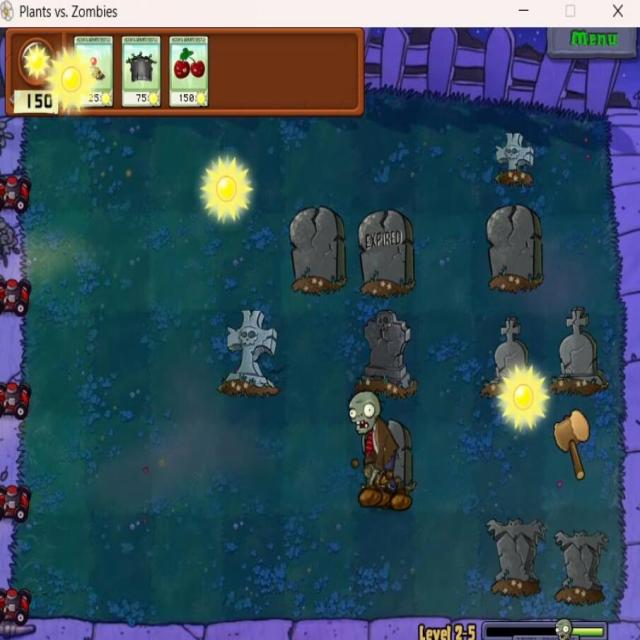sunshine: (192, 153, 258, 229), (496, 367, 549, 439), (50, 48, 94, 116)
zombies: (345, 388, 407, 502)
